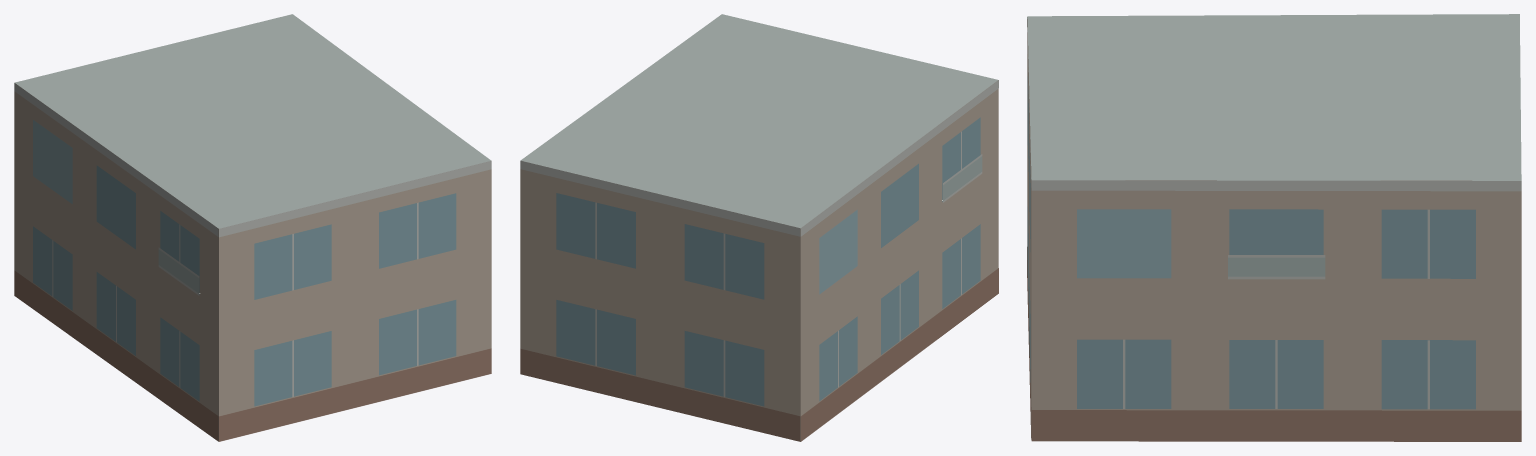
File: survey-upis-32661792.glb
The picture shows the model from 3 angles, left to right: view 1: azimuth 30°, elevation 25°; view 2: azimuth 150°, elevation 25°; view 3: azimuth 270°, elevation 25°; orthographic projection. The views are drawn at different scales.
Parts seen in each view (by area): view 1: survey-upis-32661792.tmp; view 2: survey-upis-32661792.tmp; view 3: survey-upis-32661792.tmp.
Boxes of the visible parts, x1=… form: survey-upis-32661792.tmp: x1=14, y1=14, x2=491, y2=441; survey-upis-32661792.tmp: x1=520, y1=14, x2=998, y2=441; survey-upis-32661792.tmp: x1=1027, y1=14, x2=1521, y2=441.
Size of the model in its own units: 8.39 by 6.1 by 10.48.
